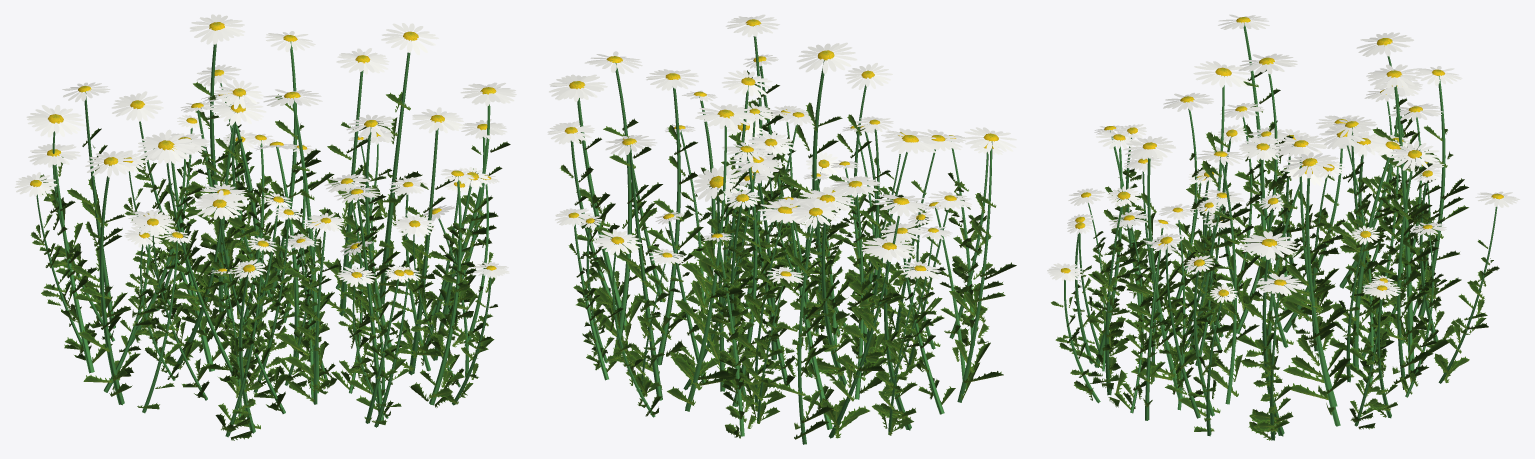
File: DaisyPatch.fbx
3 views of the same model, side by side, from view 1: azimuth 30°, elevation 25°; view 2: azimuth 150°, elevation 25°; view 3: azimuth 270°, elevation 25° (orthographic). The views are drawn at different scales.
Visible parts, largest first — view 1: DaisyPatch; view 2: DaisyPatch; view 3: DaisyPatch.
Part boxes in pixels (left/top/right/bottom): DaisyPatch: left=15, top=14, right=516, bottom=440; DaisyPatch: left=547, top=14, right=1016, bottom=444; DaisyPatch: left=1047, top=14, right=1519, bottom=440.
Size of the model in its own units: 509 by 332 by 479.
